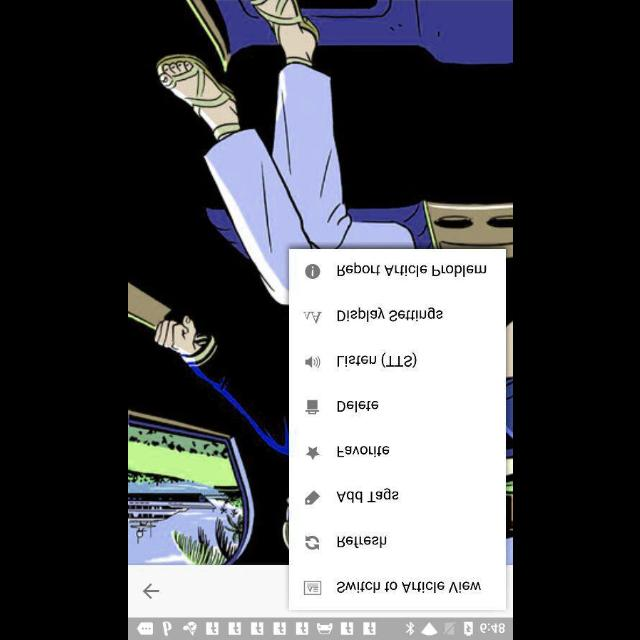icon: (143, 582, 159, 598), (304, 580, 322, 594), (304, 264, 320, 278), (304, 490, 320, 504), (305, 534, 319, 550), (306, 446, 320, 460)
image: (302, 310, 322, 324), (305, 400, 319, 414), (306, 356, 320, 368)
panel: (289, 248, 505, 610)
text: (336, 261, 486, 277), (336, 582, 480, 594), (336, 306, 442, 322), (336, 352, 416, 368), (336, 487, 398, 503), (336, 444, 389, 458), (336, 536, 386, 548), (336, 400, 378, 412)
uppertaskbar: (128, 617, 512, 639)
